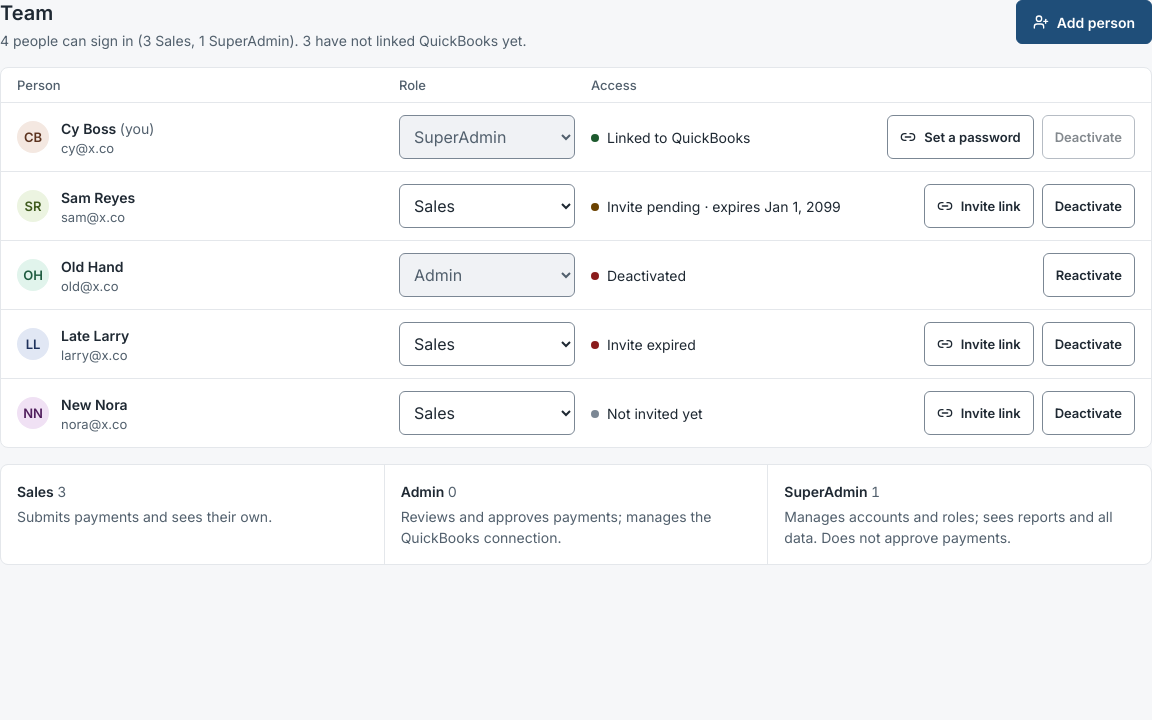
Test: TeamPage › creates a replacement invite link for someone who lost theirs
Click the button with aria-label "New invite link for Late Larry".
click(979, 344)  # box [924,322,1034,366]
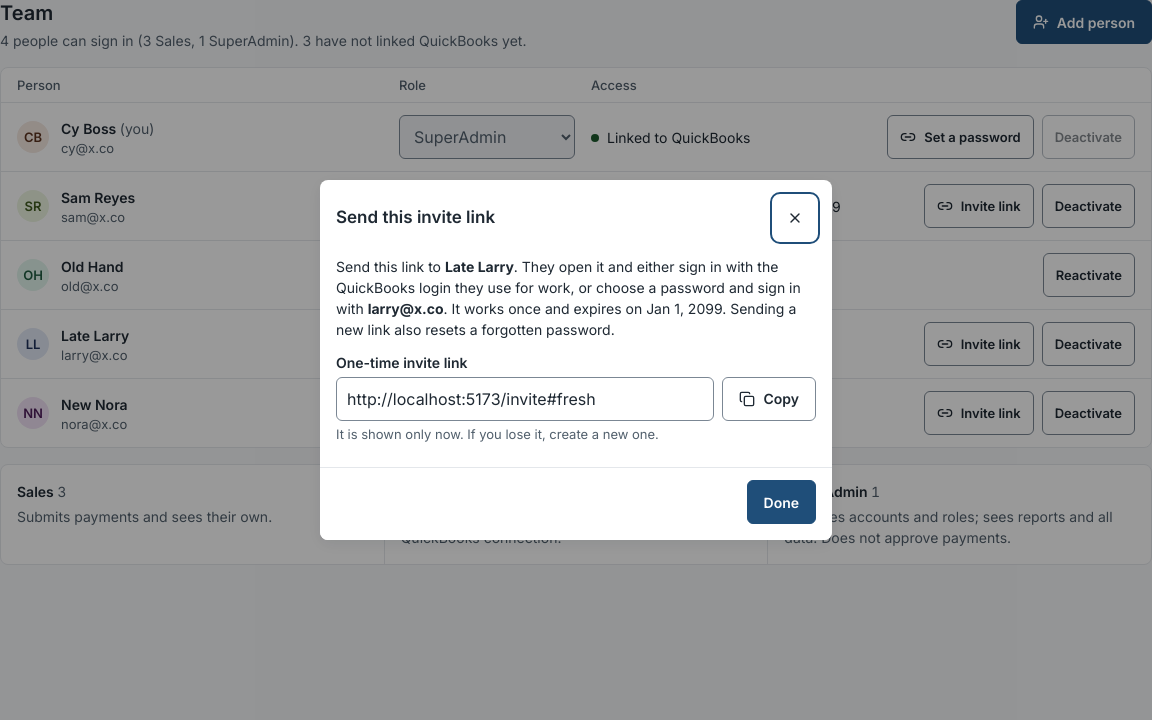
Check: the field labelled "One-time invite link" holds "http://localhost:5173/invite#fresh", box [336,377,714,421]
